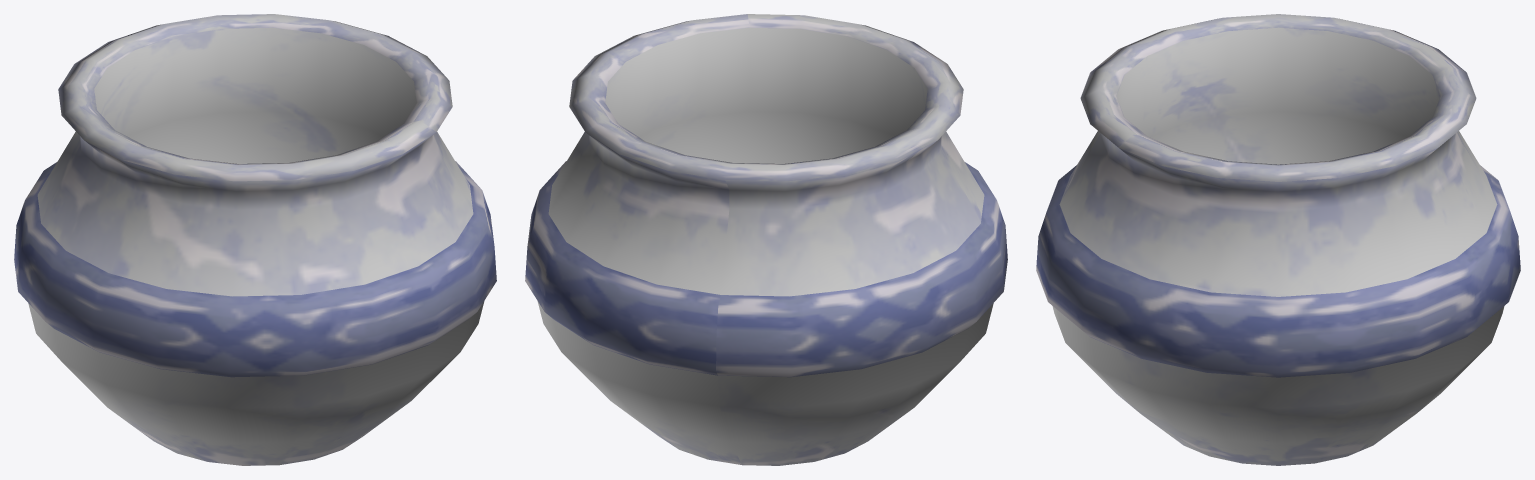
The model's file is Vase_2.fbx.
The picture shows the model from 3 angles, left to right: view 1: azimuth 30°, elevation 25°; view 2: azimuth 150°, elevation 25°; view 3: azimuth 270°, elevation 25°; orthographic projection.
Visible parts, largest first — view 1: Vase_2; view 2: Vase_2; view 3: Vase_2.
Boxes of the visible parts, x1,y1,x2,y2 form: Vase_2: [14, 14, 496, 465]; Vase_2: [525, 14, 1007, 465]; Vase_2: [1036, 14, 1520, 465].
Bounding box in the file's own units: 69.47 × 51.63 × 69.47.
